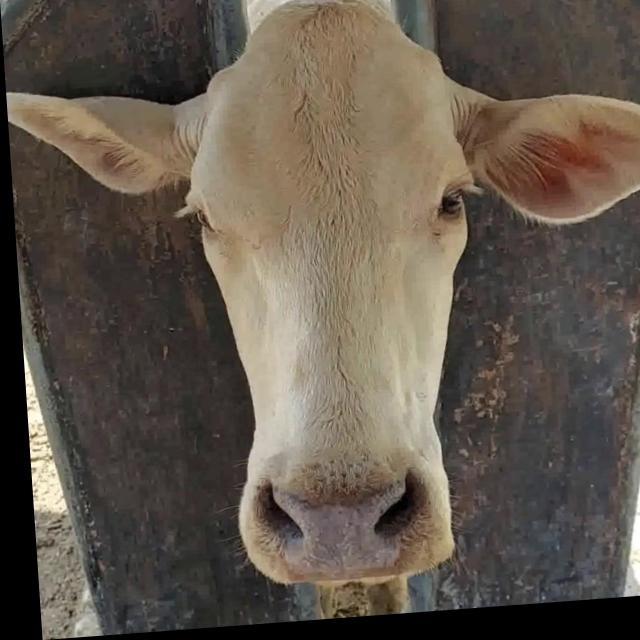cowFace: (185, 0, 481, 599)
